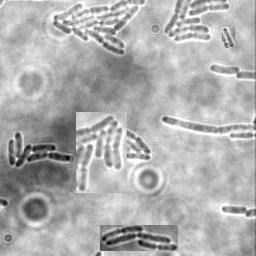Dividing: (161, 114, 255, 133), (221, 204, 248, 215)
Microcolony: (51, 1, 147, 56), (76, 112, 127, 193), (162, 1, 231, 44), (8, 130, 72, 167), (100, 225, 178, 251), (128, 124, 153, 160), (208, 63, 240, 74)
Rod: (222, 27, 235, 48)
